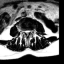CCS_normal: (26, 27, 28, 37)
LFS_stenosis: (30, 27, 32, 33)
LLS_normal: (28, 27, 30, 35)
RFS_normal: (22, 27, 24, 34)
RLS_normal: (24, 28, 26, 35)
